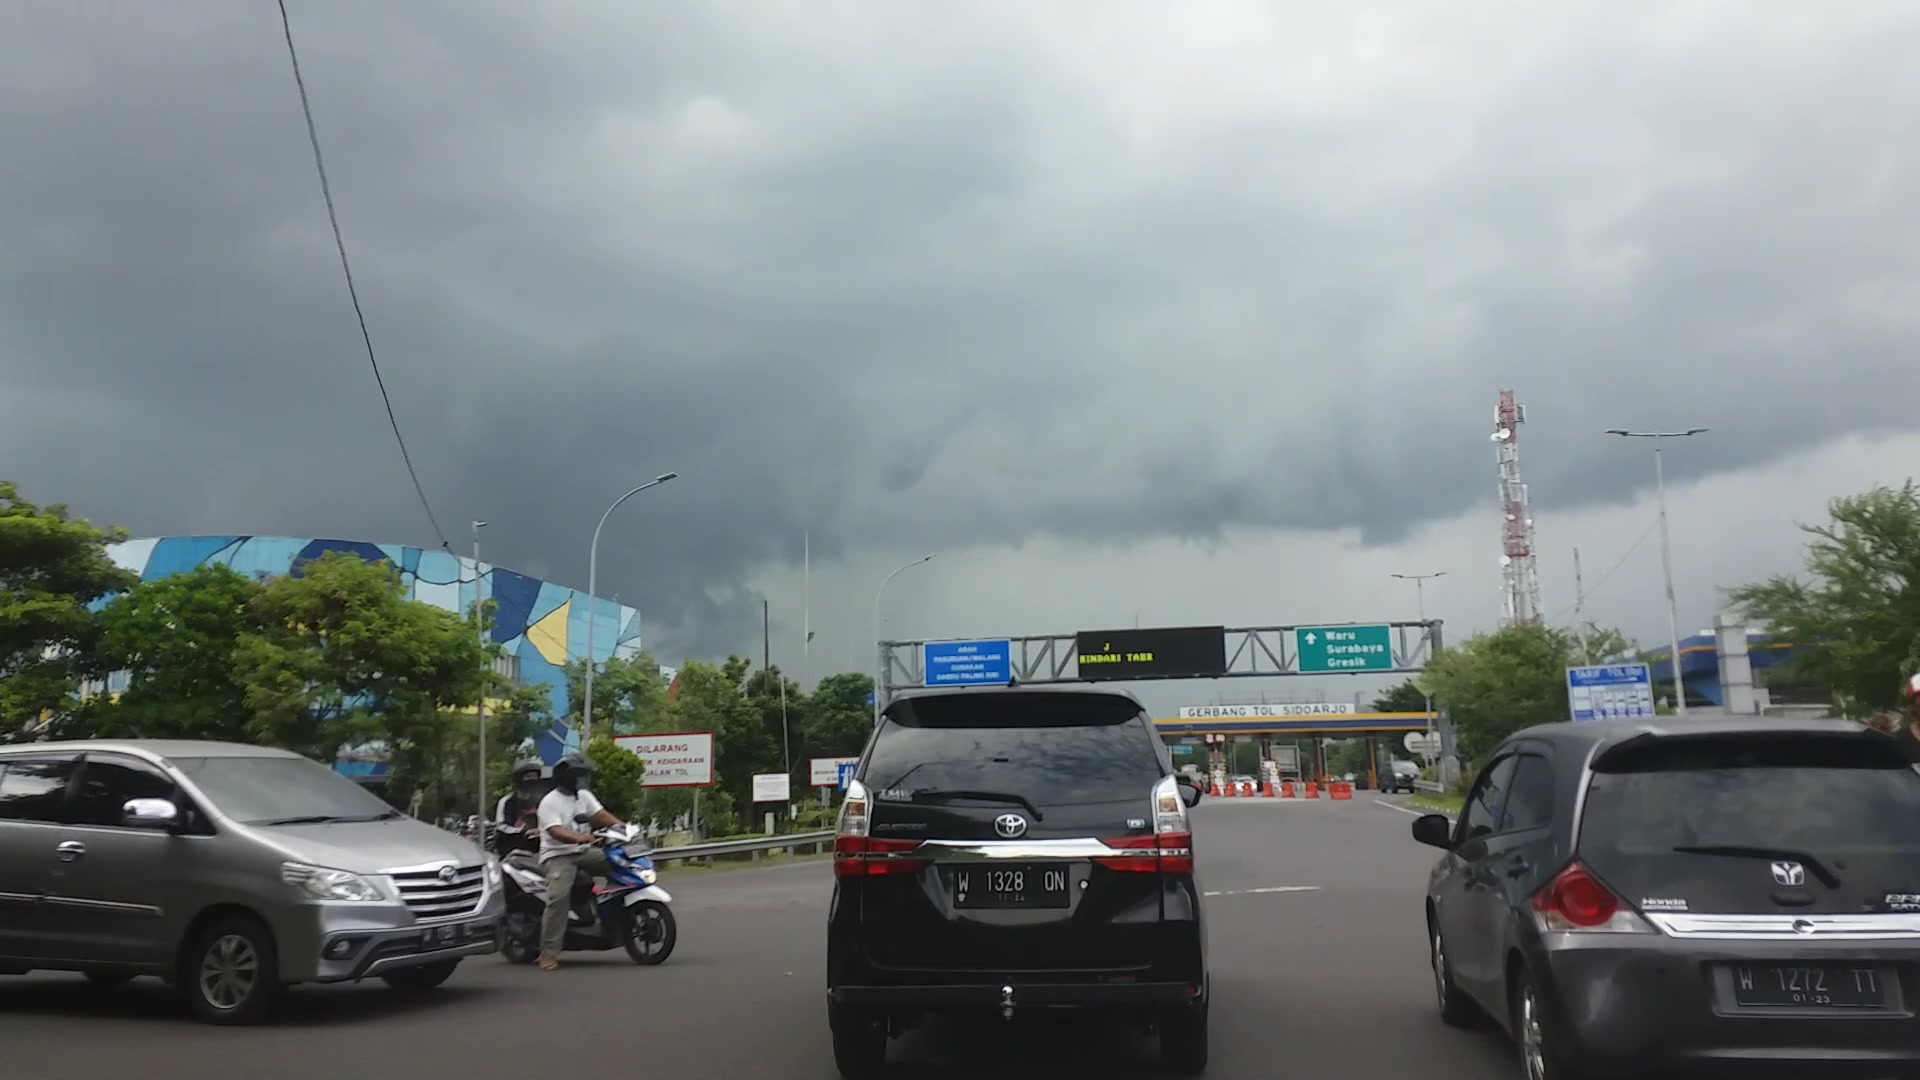plate_positive: (1731, 959, 1884, 1007), (955, 864, 1069, 909)
